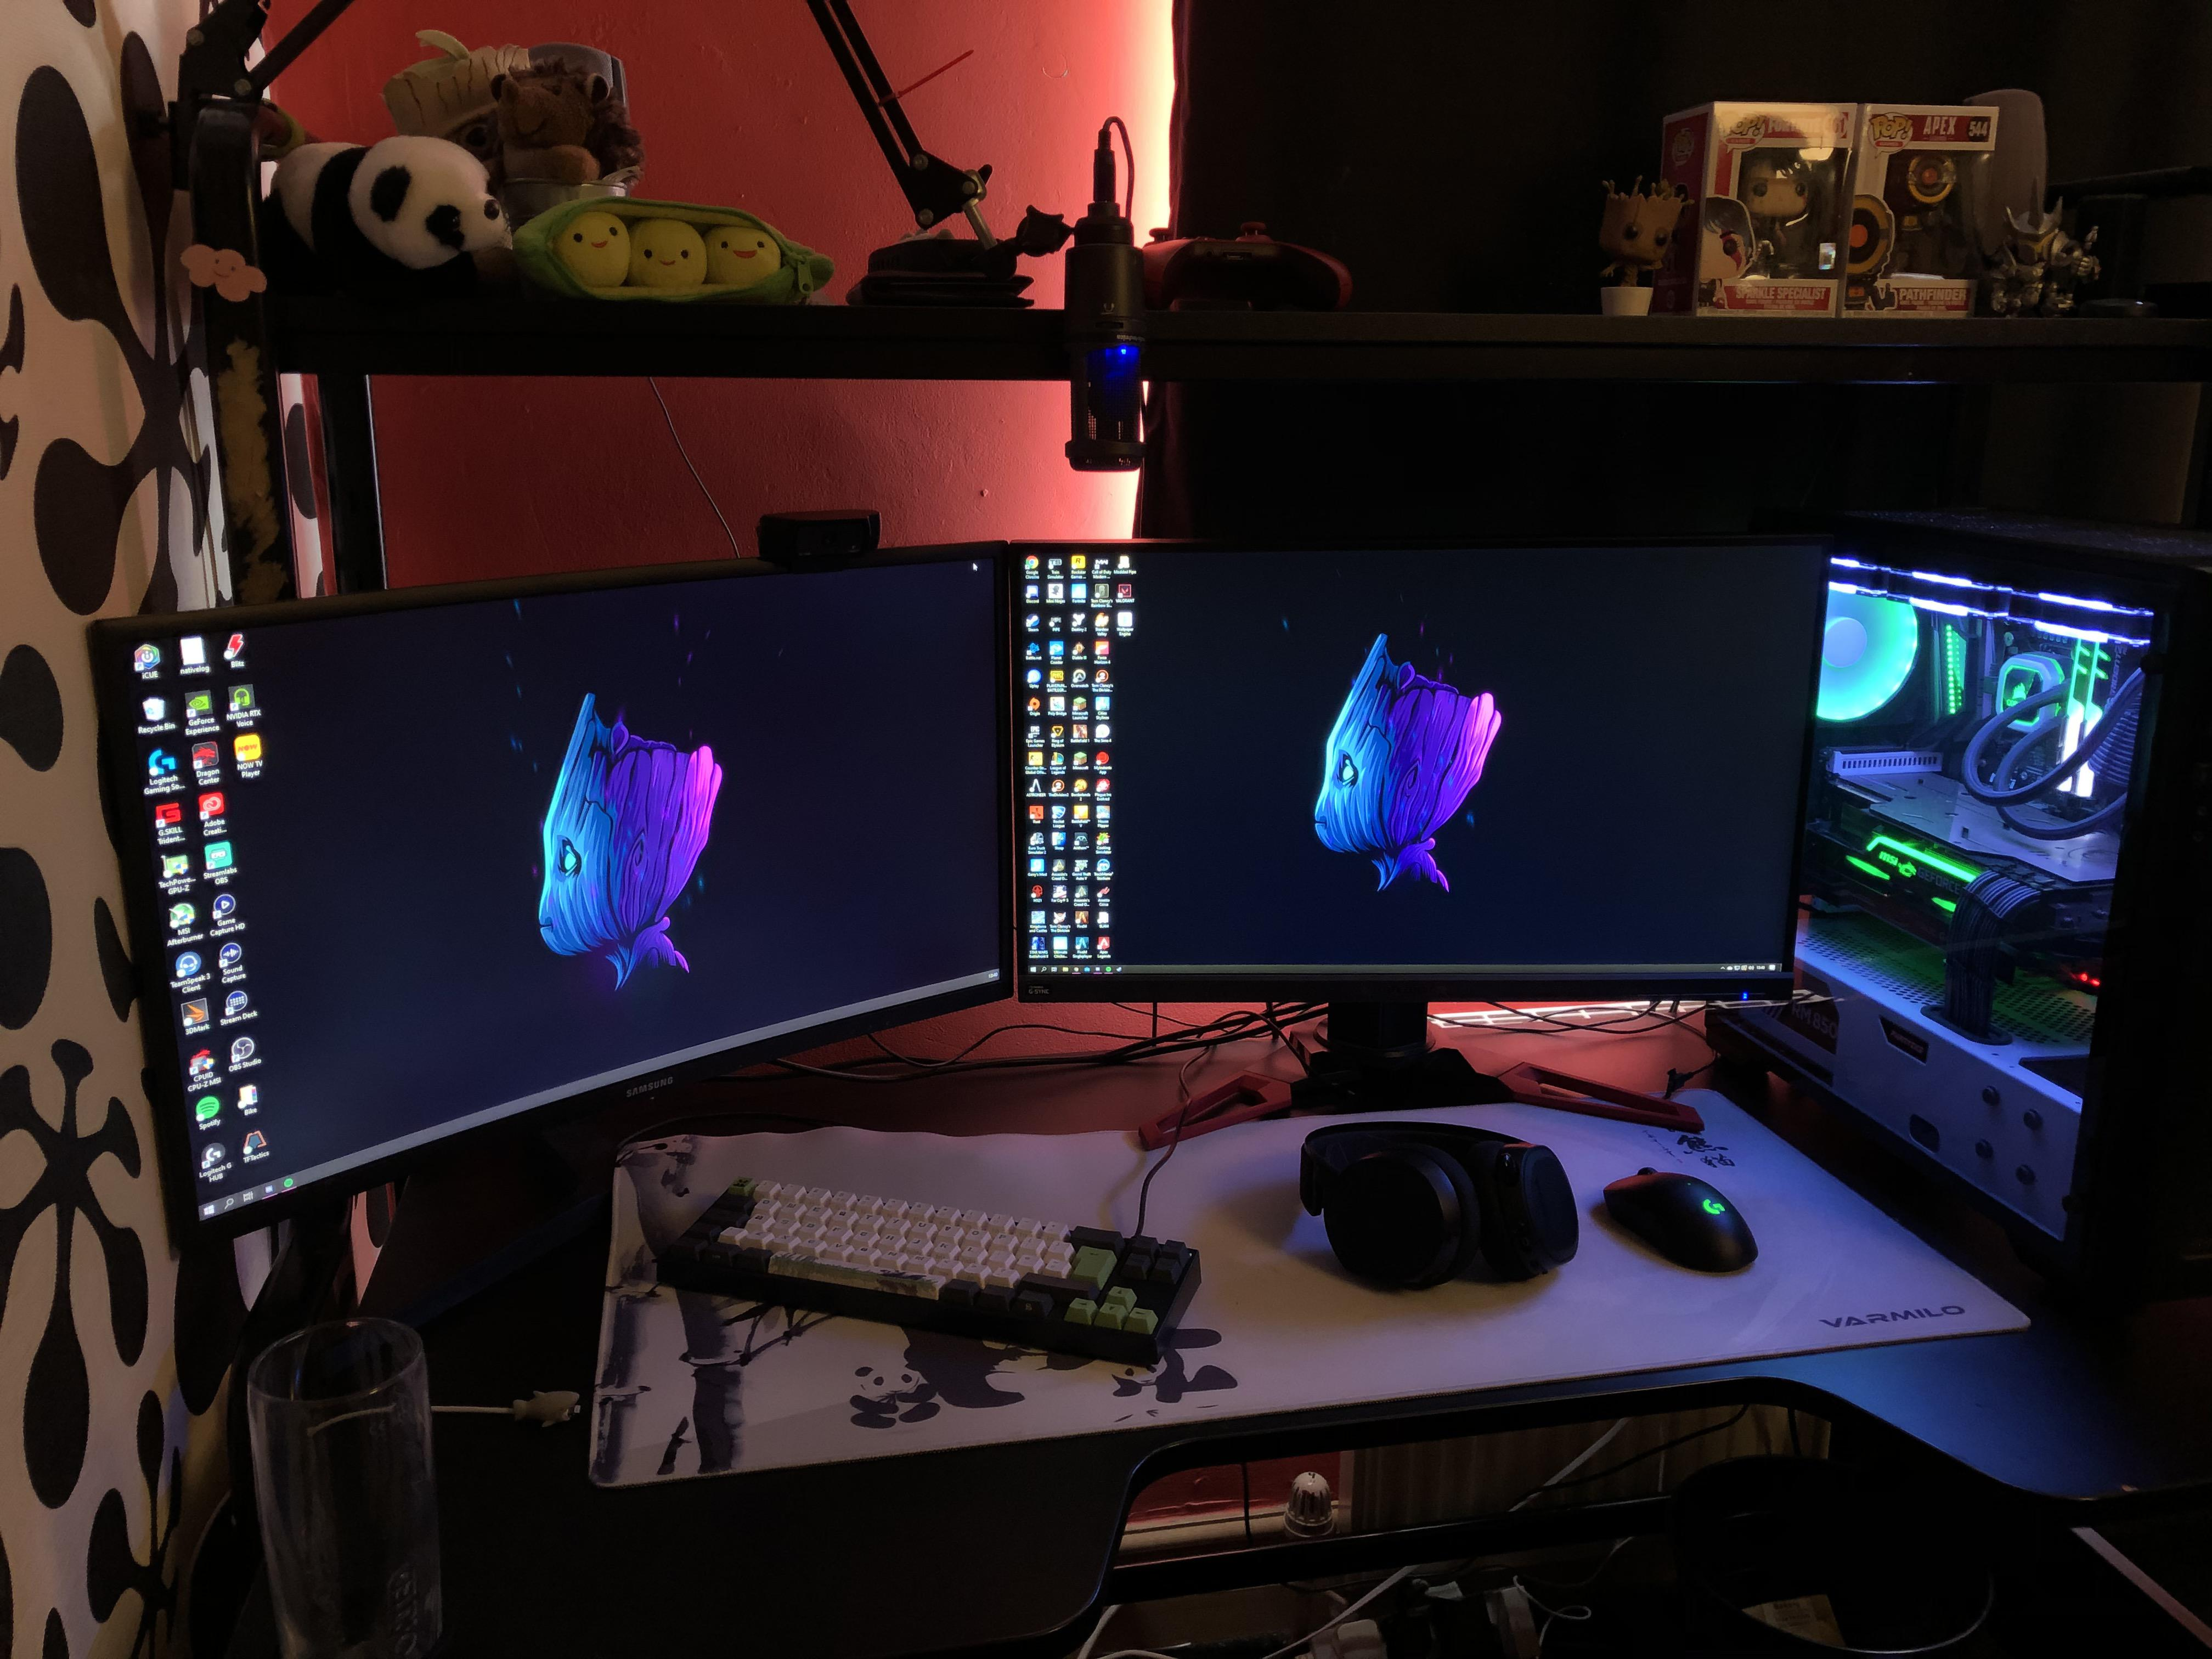Cup: (226, 1310, 502, 1659)
Decoration (Miniature): (258, 47, 826, 317), (1613, 84, 2013, 317)
Desk (Generic): (294, 1133, 2170, 1652)
Desktop (Windows): (1709, 486, 2160, 1283)
External Microphone (with Boom Arm): (1031, 199, 1183, 476)
Headphones: (1305, 1133, 1576, 1284)
Keyboard (Gaming): (681, 1171, 1221, 1368)
Monitor (Landscape): (143, 598, 1040, 1201), (1014, 538, 1801, 1000)
Mouse (Gaming): (1604, 1155, 1766, 1290)
Mousepad (Gaming): (594, 1080, 2069, 1375)
